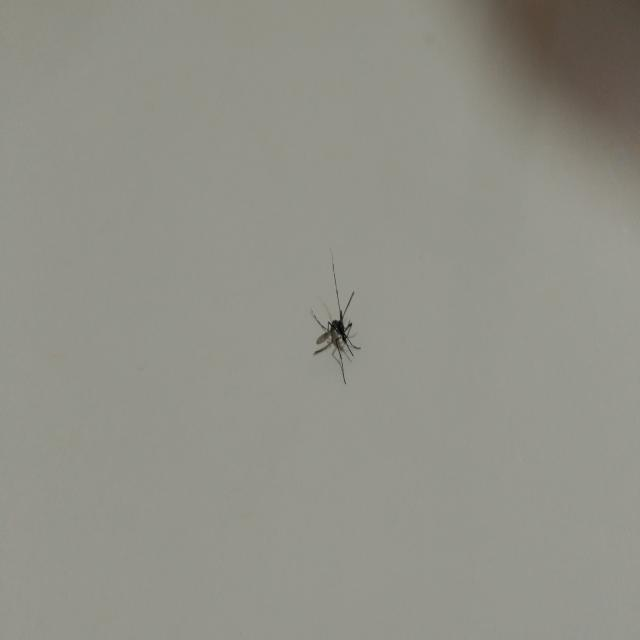albopictus: (305, 243, 361, 384)
